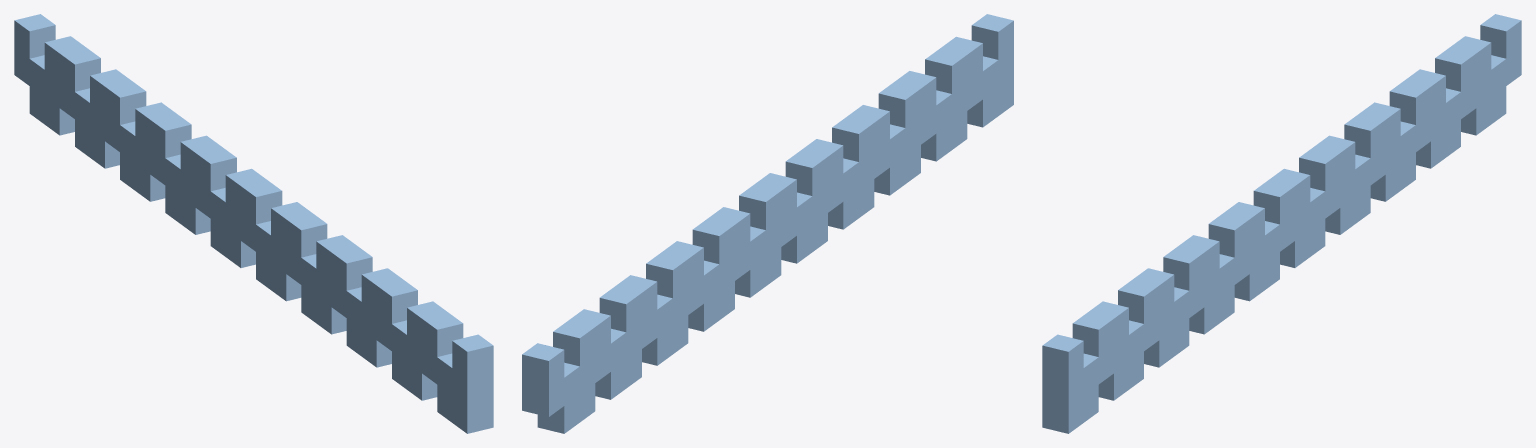
The model's file is grass_wall_deco_big_abc.obj.
The picture shows the model from 3 angles, left to right: view 1: azimuth 30°, elevation 25°; view 2: azimuth 150°, elevation 25°; view 3: azimuth 330°, elevation 25°; orthographic projection. The views are drawn at different scales.
Size of the model in its own units: 0.1 by 0.3 by 3.
Materials: 1 (1 with a texture image).
